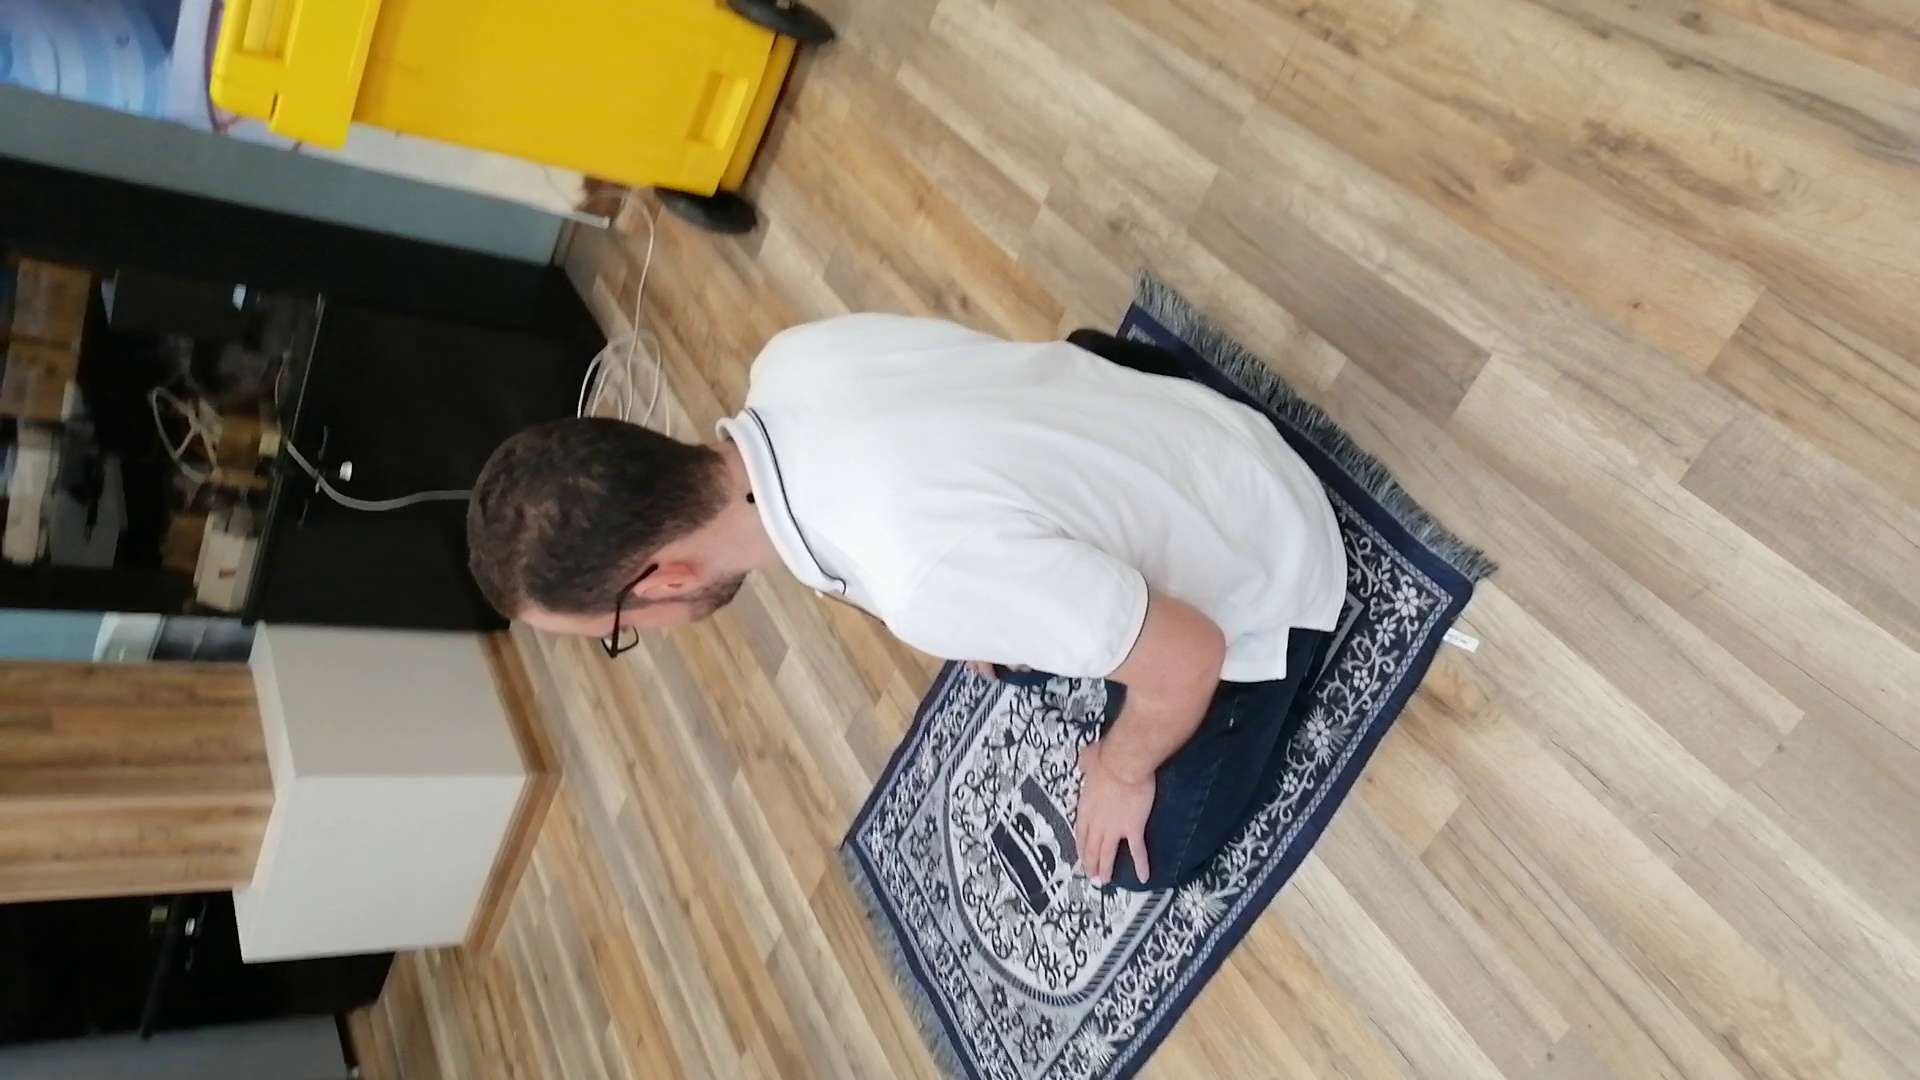sitting: (447, 295, 1371, 905)
